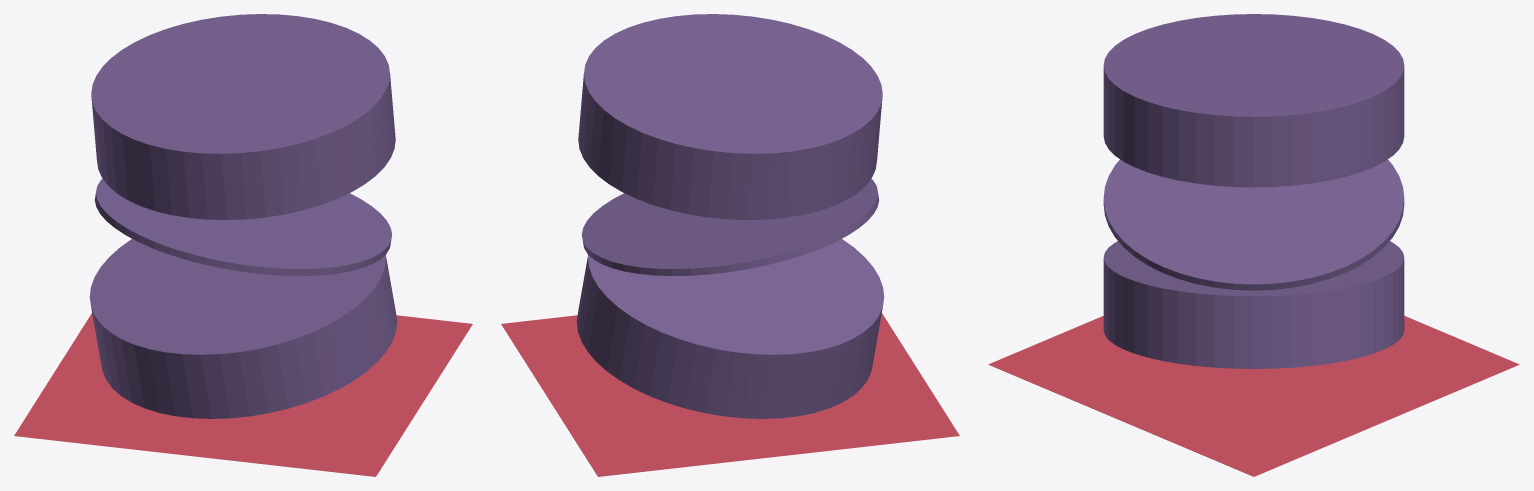
File: UUU.glb
The picture shows the model from 3 angles, left to right: view 1: azimuth 30°, elevation 25°; view 2: azimuth 150°, elevation 25°; view 3: azimuth 270°, elevation 25°; orthographic projection.
Visible parts, largest first — view 1: Mesh_Mesh_head_geo.001_lambert2SG.001; view 2: Mesh_Mesh_head_geo.001_lambert2SG.001; view 3: Mesh_Mesh_head_geo.001_lambert2SG.001.
Part boxes in pixels (x1,y1,x2,y2): Mesh_Mesh_head_geo.001_lambert2SG.001: (14,14,472,476); Mesh_Mesh_head_geo.001_lambert2SG.001: (501,14,959,476); Mesh_Mesh_head_geo.001_lambert2SG.001: (988,14,1519,476).
Size of the model in its own units: 0.0354 by 0.0227 by 0.0354.
